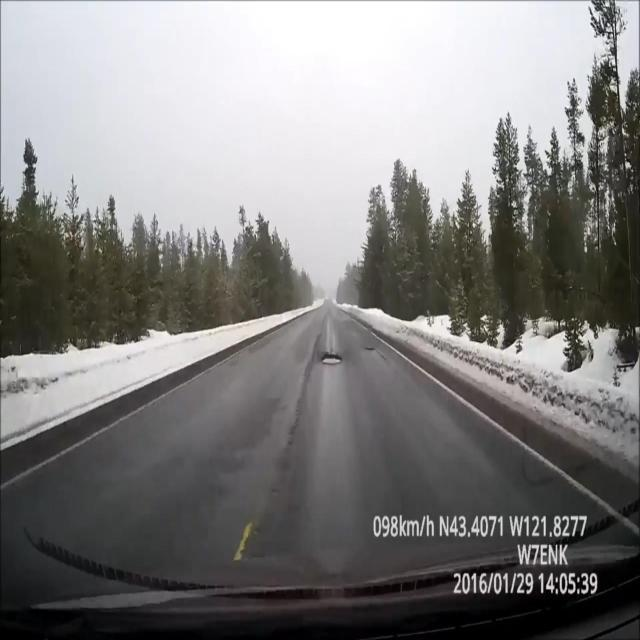Pothole: (321, 354, 342, 365)
